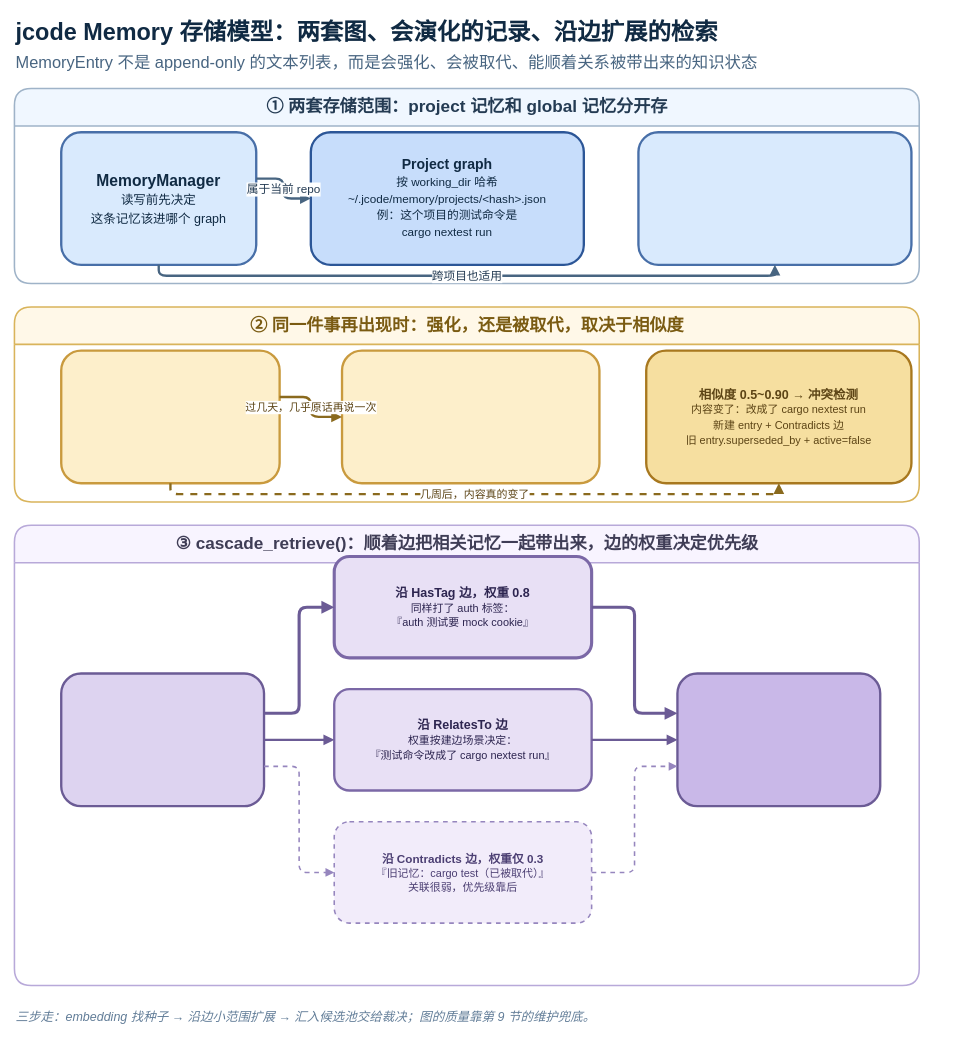
Some shapes in this 979 by 1045 pixel diagram are drawn without their labels. The box of each missing label's shape, as (x1, y1, x2, y2) in pixels:
Embedding 命中的种子 『不要动登录态 相关代码』: (60, 672, 265, 807)
Global graph 用户级，跨项目共享 ~/.jcode/memory/global.json 例：回复先结论、再展开 证据 这类跨项目偏好: (637, 131, 912, 266)
候选池 连同种子一起， 交给第 7 节 LLM 裁决: (676, 672, 881, 807)
相似度 > 0.85 → reinforce 又说了一遍几乎相同的话 strength+1，不新建记录: (340, 349, 600, 484)
第一次写入 『这个项目用 cargo test』 category=fact, trust=medium strength=1: (60, 349, 280, 484)
